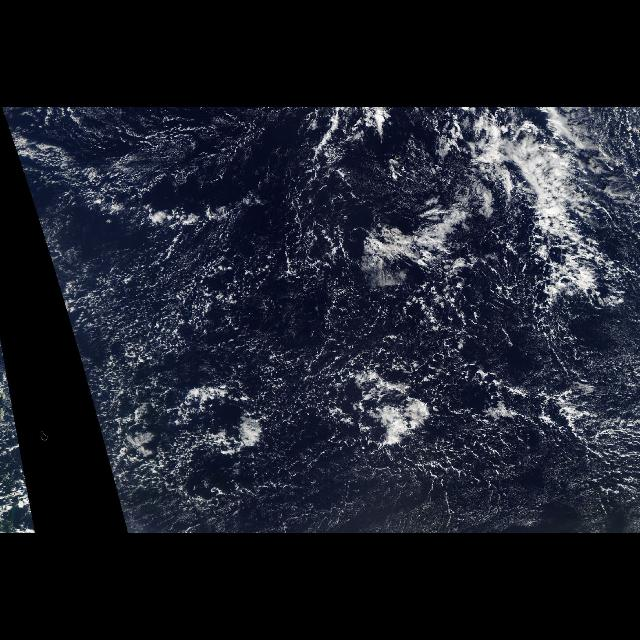Gravel: (49, 108, 529, 502)
